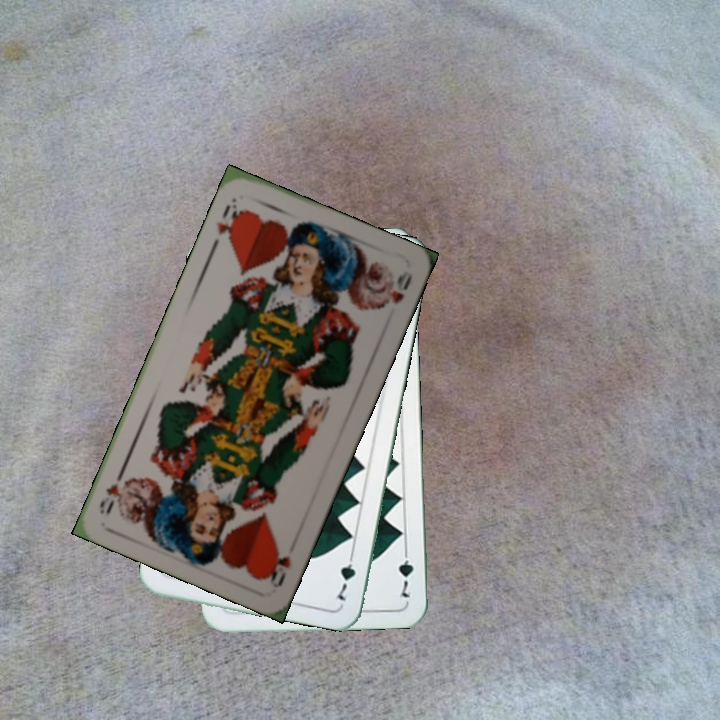G7: (331, 546, 358, 603), (394, 543, 416, 601)
HO: (212, 194, 245, 245), (262, 544, 294, 591)
